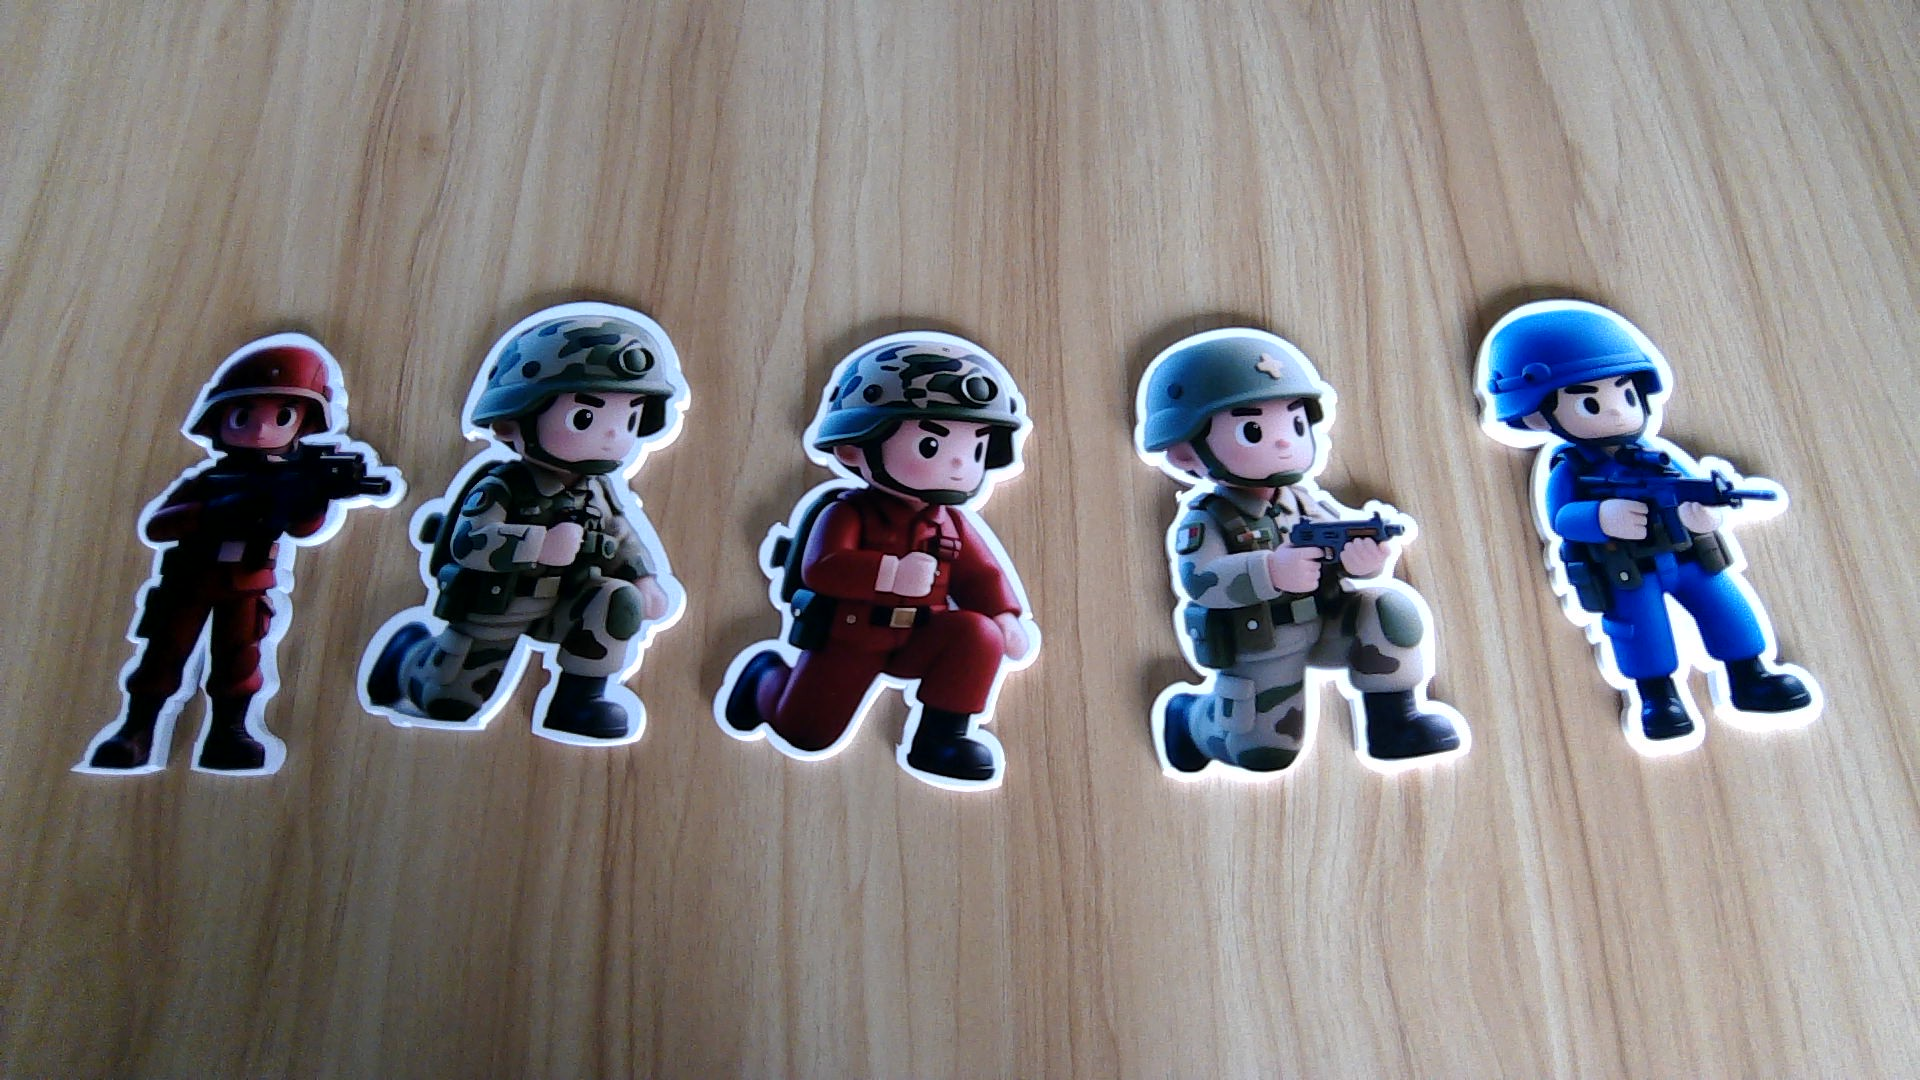友军: (1133, 477, 1478, 793), (365, 454, 688, 756)
敌人1: (709, 480, 1043, 800), (71, 454, 359, 777)
敌人2: (1520, 444, 1838, 756)
